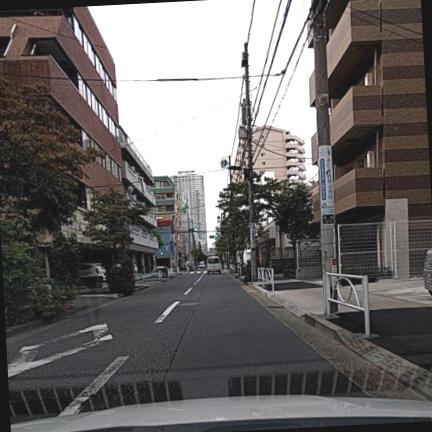Road: (6, 272, 363, 421)
